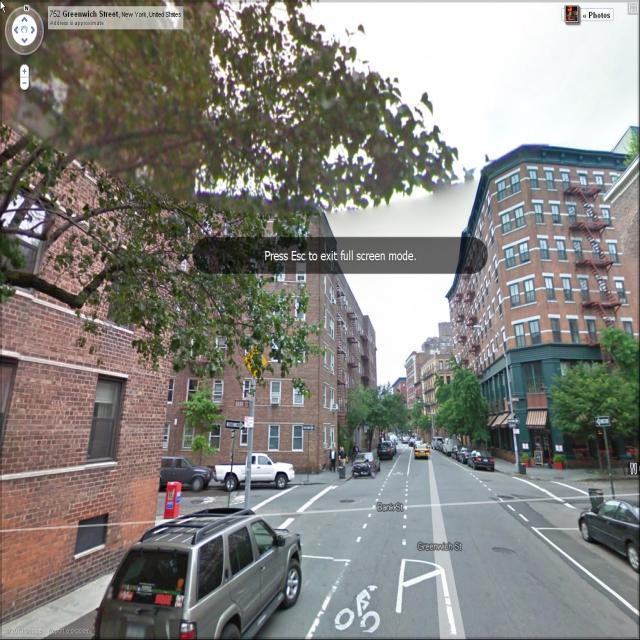b_1: (450, 136, 620, 390)
b_2: (1, 3, 206, 584), (159, 196, 377, 465), (384, 328, 460, 444)
